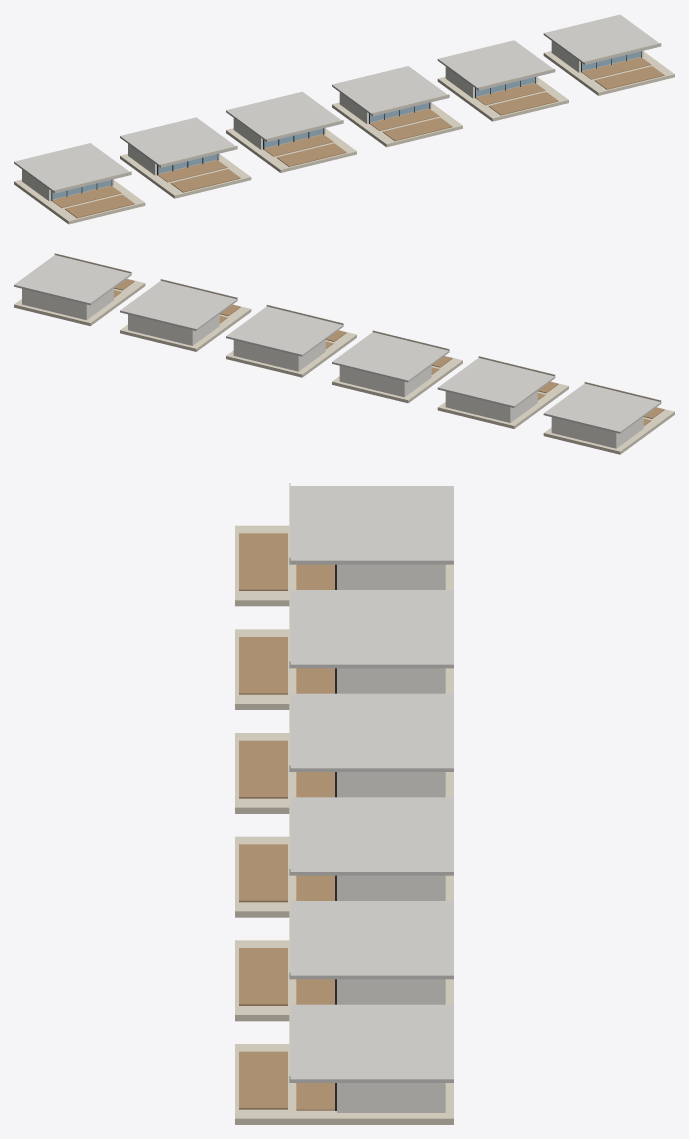
File: E5-7_bangalos.fbx
3 renders of one model, top to bottom at view 1: azimuth 30°, elevation 25°; view 2: azimuth 150°, elevation 25°; view 3: azimuth 270°, elevation 25°, orthographic. The views are drawn at different scales.
Visible parts, largest first — view 1: E5-7_bangalos; view 2: E5-7_bangalos; view 3: E5-7_bangalos.
Part boxes in pixels (x1,y1,x2,y2): E5-7_bangalos: (14, 14, 674, 224); E5-7_bangalos: (14, 253, 674, 454); E5-7_bangalos: (235, 483, 453, 1124).
Size of the model in its own units: 103 by 4.07 by 16.1.
